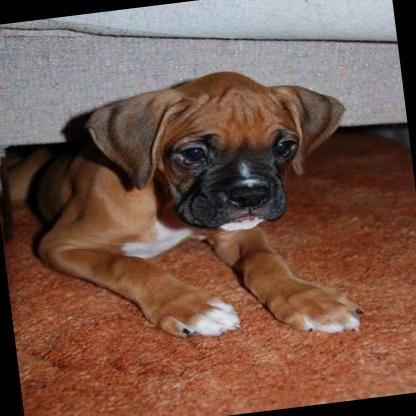boxer: (0, 45, 375, 365)
